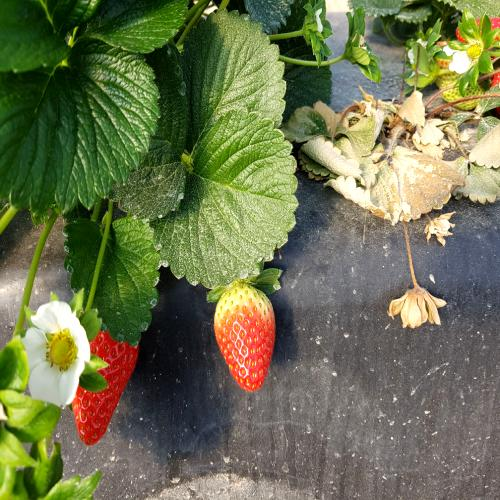partially-ripe: (208, 271, 284, 405)
ripe: (66, 294, 139, 450)
